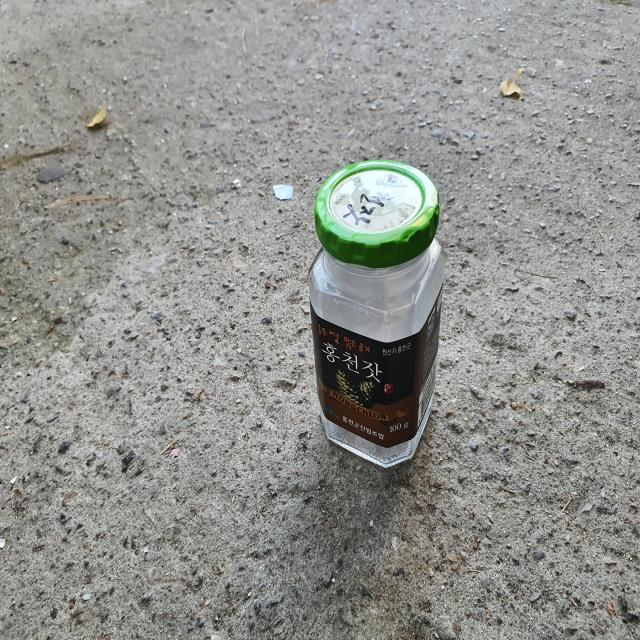glass: (309, 159, 445, 468)
